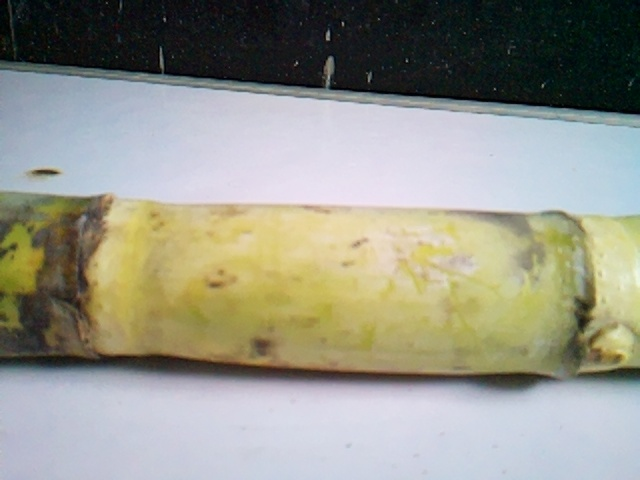Good Sugarcane: (2, 190, 640, 375)
Node: (509, 204, 633, 378), (31, 188, 154, 362)
